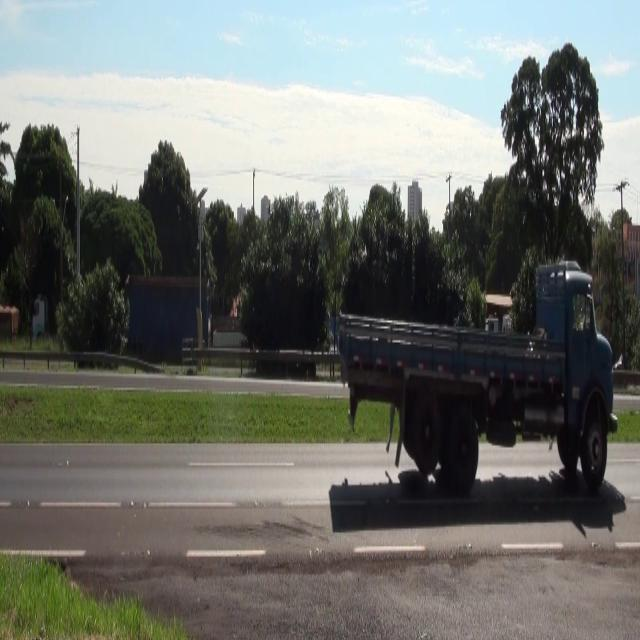-axle: (444, 406, 480, 494), (412, 388, 439, 478), (580, 412, 610, 490)
